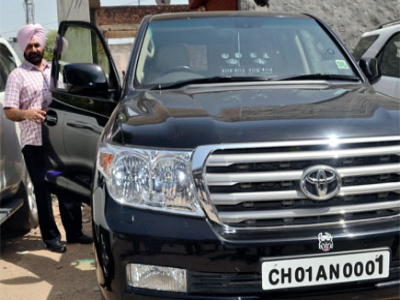licence: (262, 258, 391, 286)
